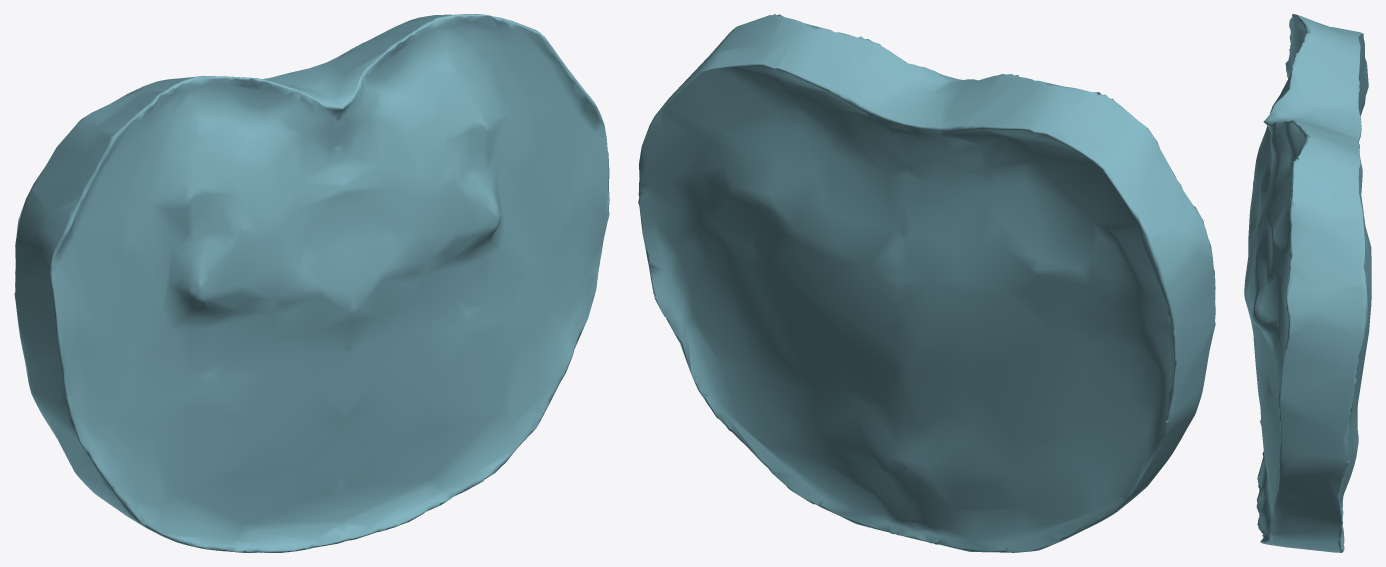
The picture shows the model from 3 angles, left to right: view 1: azimuth 30°, elevation 25°; view 2: azimuth 150°, elevation 25°; view 3: azimuth 270°, elevation 25°; orthographic projection. The views are drawn at different scales.
Parts seen in each view (by area): view 1: 腰2—腰3椎间盘; view 2: 腰2—腰3椎间盘; view 3: 腰2—腰3椎间盘.
Part boxes in pixels (box(x1,y1,x2,y2)): 腰2—腰3椎间盘: box(14, 14, 609, 552); 腰2—腰3椎间盘: box(638, 14, 1215, 552); 腰2—腰3椎间盘: box(1244, 14, 1371, 552).
Size of the model in its own units: 0.0677 by 0.0564 by 0.0151.
